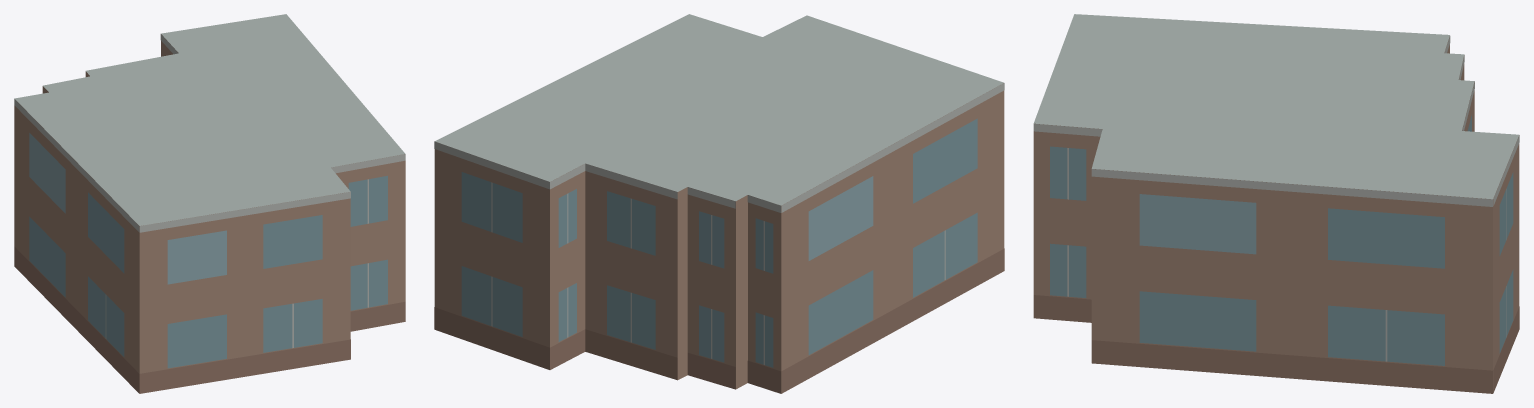
File: survey-upis-32572584.glb
3 views of the same model, side by side, from view 1: azimuth 30°, elevation 25°; view 2: azimuth 150°, elevation 25°; view 3: azimuth 270°, elevation 25° (orthographic). The views are drawn at different scales.
Parts seen in each view (by area): view 1: survey-upis-32572584.tmp; view 2: survey-upis-32572584.tmp; view 3: survey-upis-32572584.tmp.
Part boxes in pixels (bbox=[...]): survey-upis-32572584.tmp: bbox=[14, 14, 405, 393]; survey-upis-32572584.tmp: bbox=[434, 14, 1004, 393]; survey-upis-32572584.tmp: bbox=[1033, 14, 1519, 393].
Bounding box in the file's own units: 12.47 × 6.1 × 13.82.
